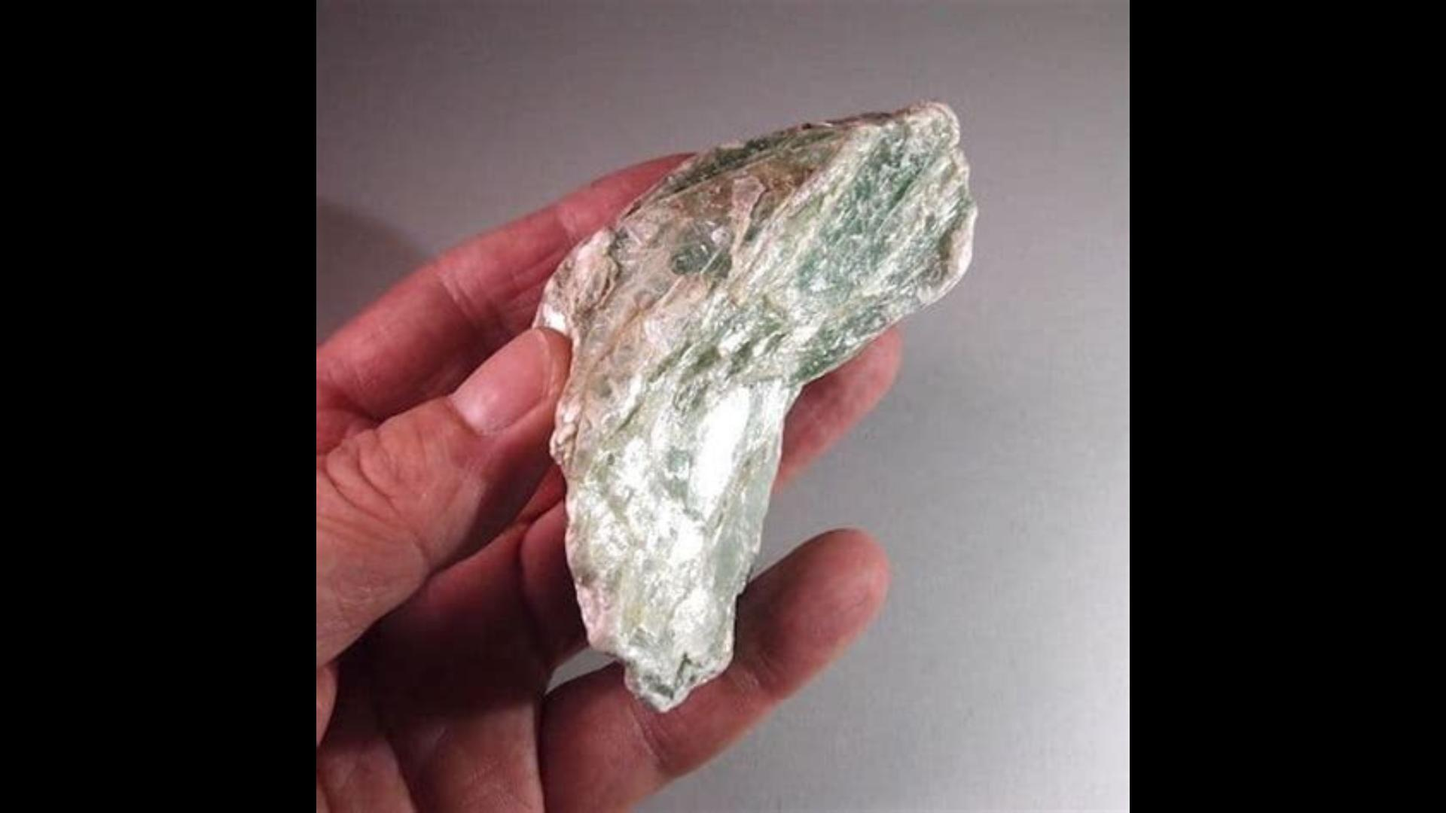rock: (536, 106, 974, 710)
